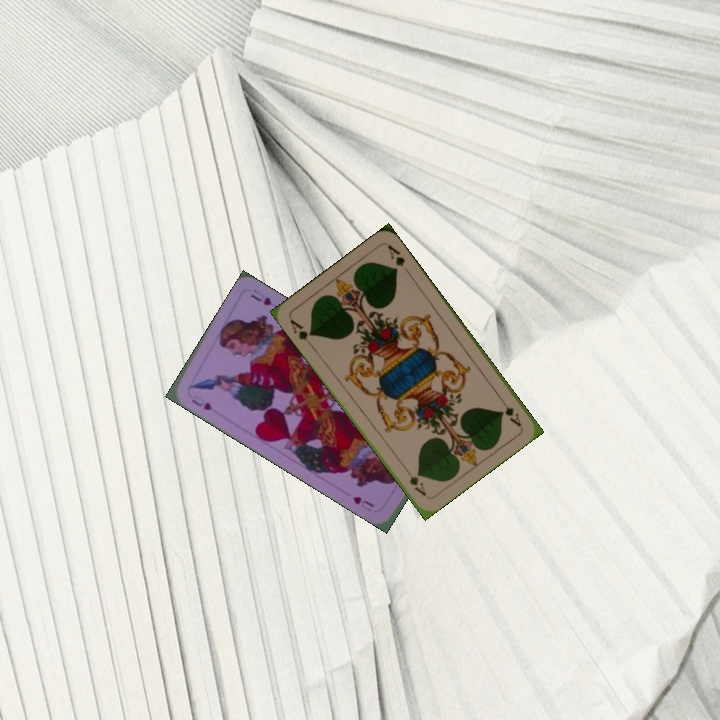GA: (286, 315, 315, 349), (501, 403, 524, 429)
HU: (187, 391, 214, 413)
